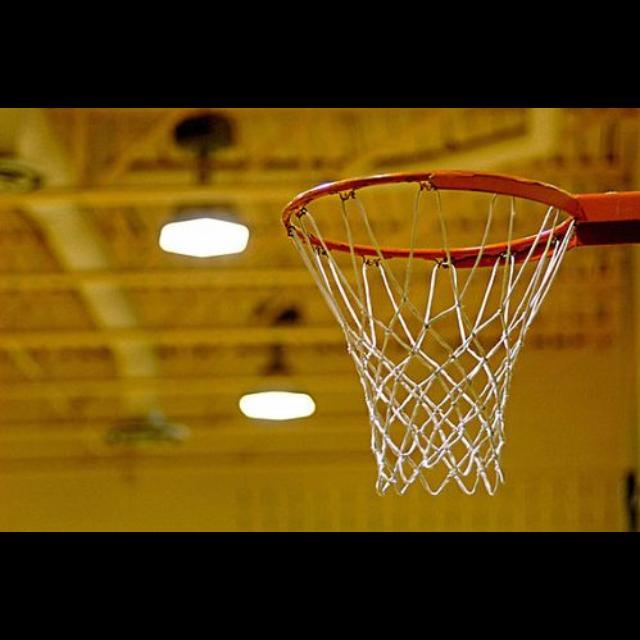rim: (282, 172, 574, 496)
